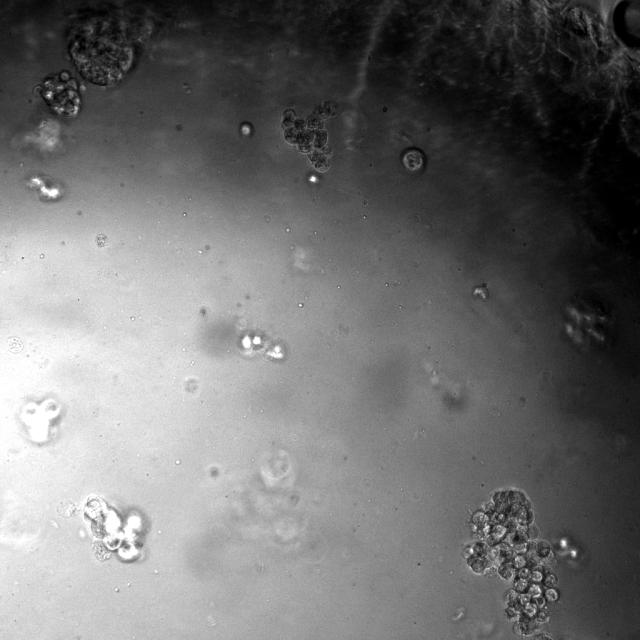organoid: (463, 489, 558, 635), (68, 5, 153, 86), (82, 494, 149, 562), (281, 101, 337, 171), (33, 70, 81, 117), (564, 306, 610, 349), (19, 398, 61, 443), (12, 119, 64, 155), (238, 331, 287, 362), (28, 175, 63, 201), (401, 147, 426, 175), (58, 500, 79, 517), (7, 336, 22, 353), (239, 121, 254, 137), (306, 170, 321, 184), (472, 286, 488, 299), (532, 632, 554, 639)
